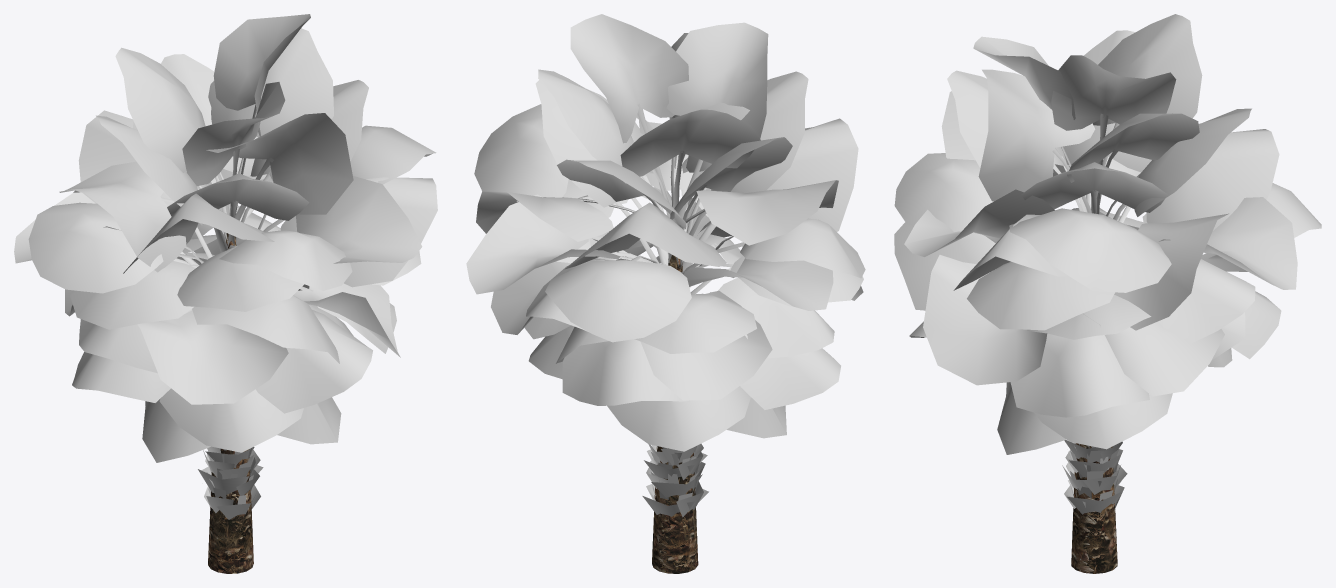
File: fan_palm1.fbx
3 renders of one model, left to right at view 1: azimuth 30°, elevation 25°; view 2: azimuth 150°, elevation 25°; view 3: azimuth 270°, elevation 25°, orthographic. The views are drawn at different scales.
Visible parts, largest first — view 1: polySurface119; view 2: polySurface119; view 3: polySurface119.
Boxes of the visible parts, x1,y1,x2,y2 form: polySurface119: [14, 14, 437, 573]; polySurface119: [466, 14, 865, 573]; polySurface119: [894, 14, 1321, 573].
Size of the model in its own units: 37.49 by 49.3 by 35.3.
2 materials, 1 textured.
